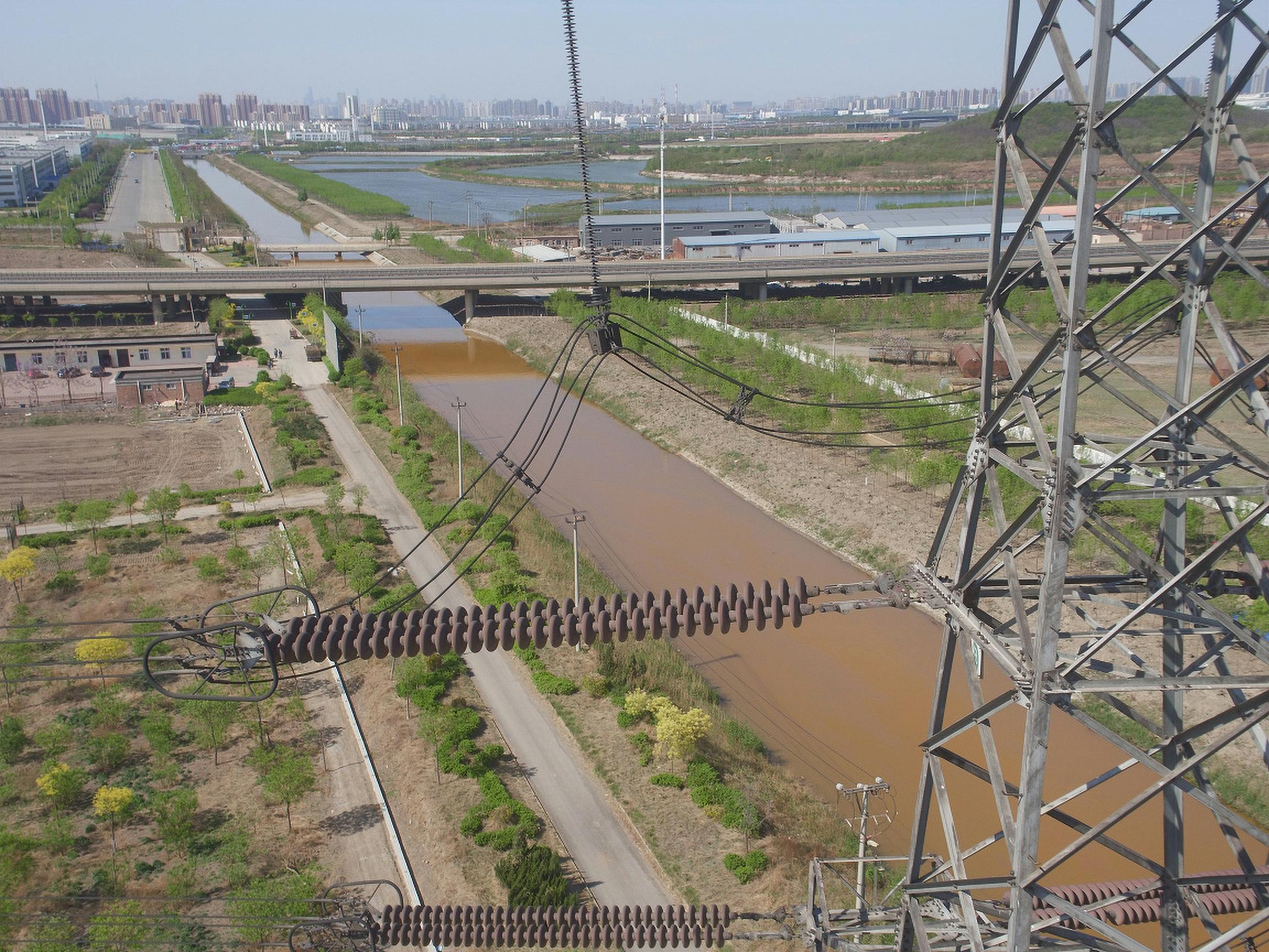insulator: (263, 574, 810, 668), (1001, 862, 1269, 933), (365, 900, 735, 949), (559, 1, 608, 289)
